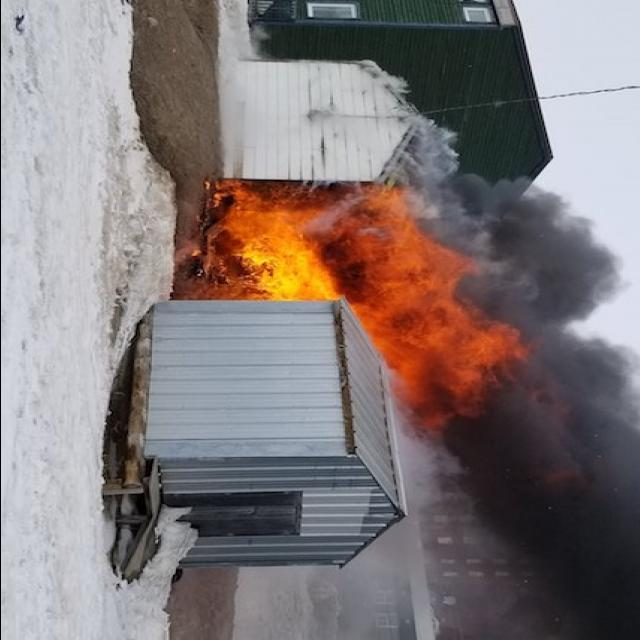Fire: (170, 173, 528, 449)
